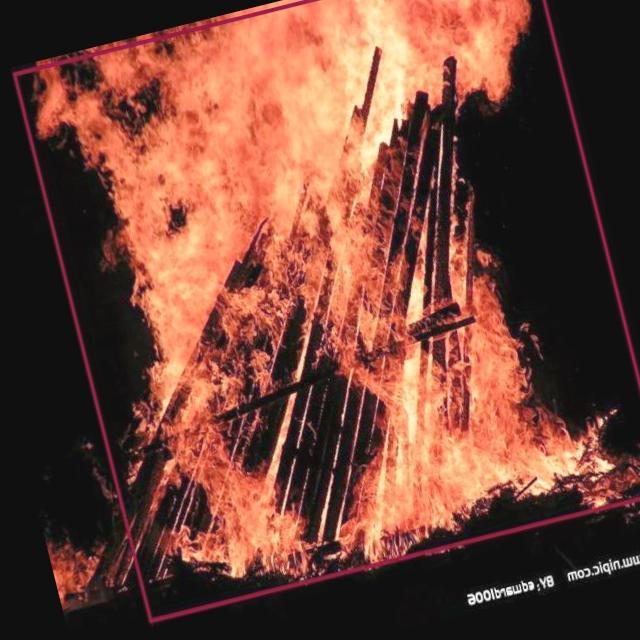fire: (13, 0, 640, 621)
